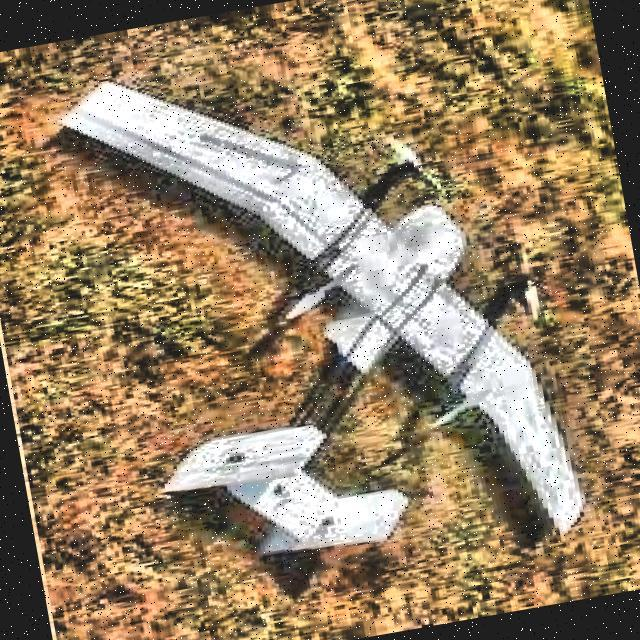iha: (44, 2, 598, 638)
